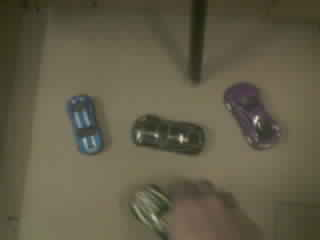Car: (224, 83, 279, 148), (132, 115, 203, 154), (68, 96, 102, 152), (131, 185, 169, 235)
